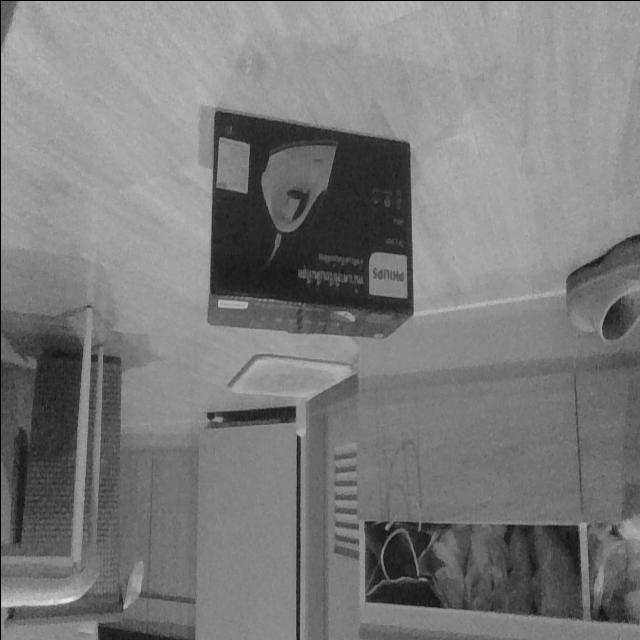IRON: (204, 106, 416, 344)
